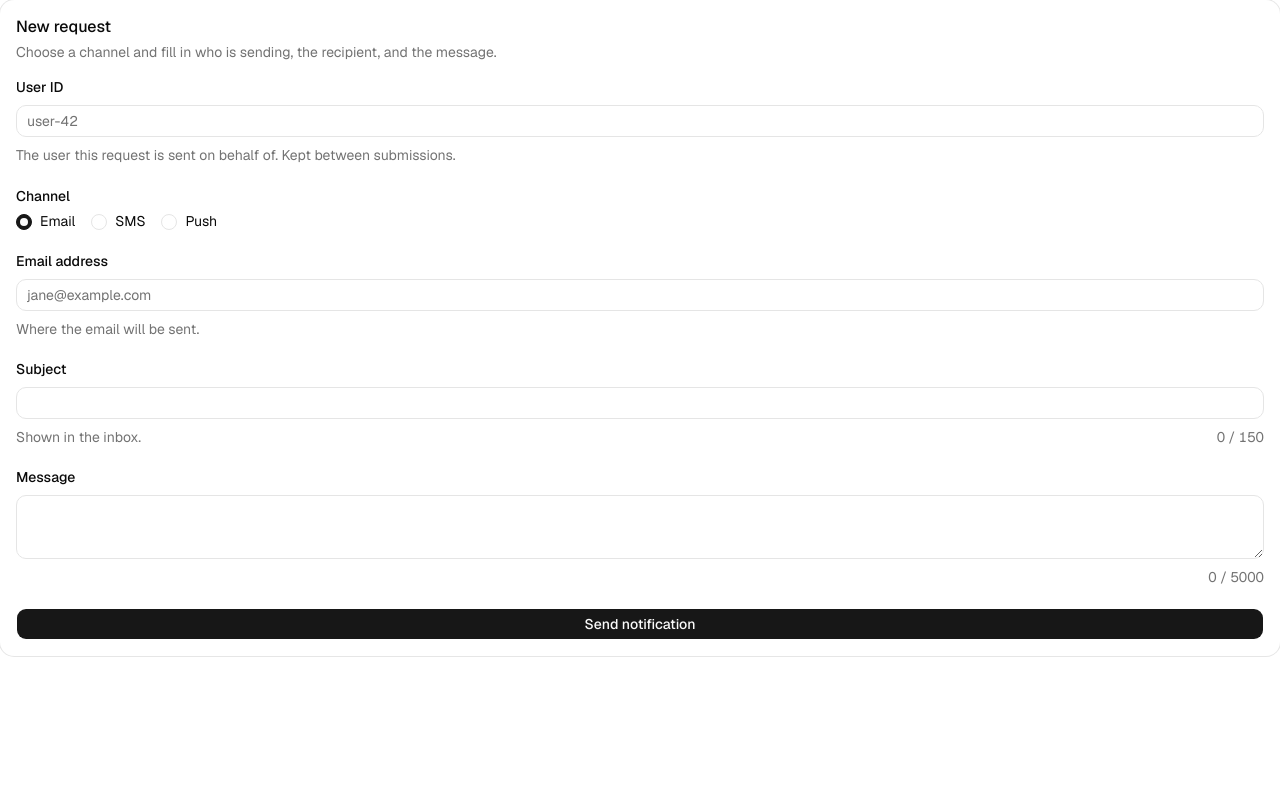
NotificationForm › validates with the shared schema before submitting
This screenshot has width=1280, height=800.
Type "jane@" into the field labelled "Email address" at (640, 295), box [16,279,1264,311]
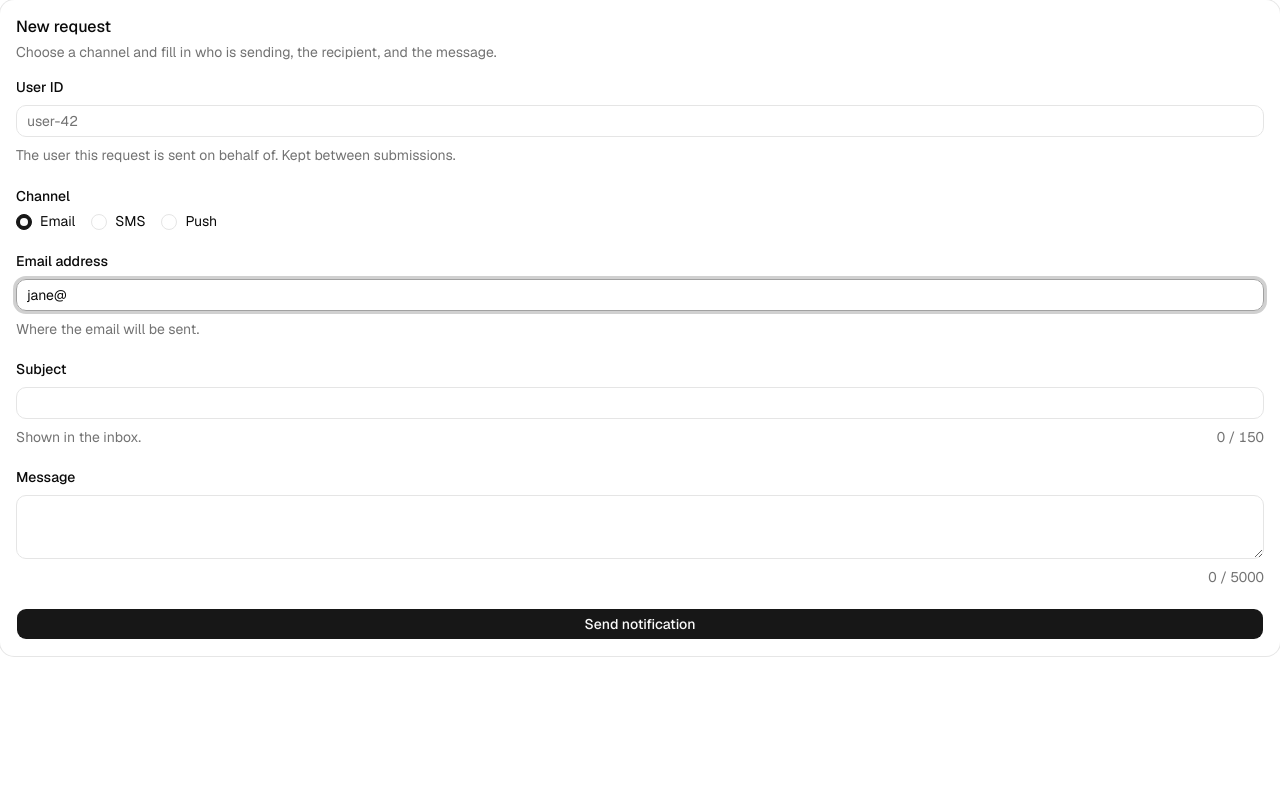
Clear the field labelled "Subject" at (640, 403), box [16,387,1264,419]
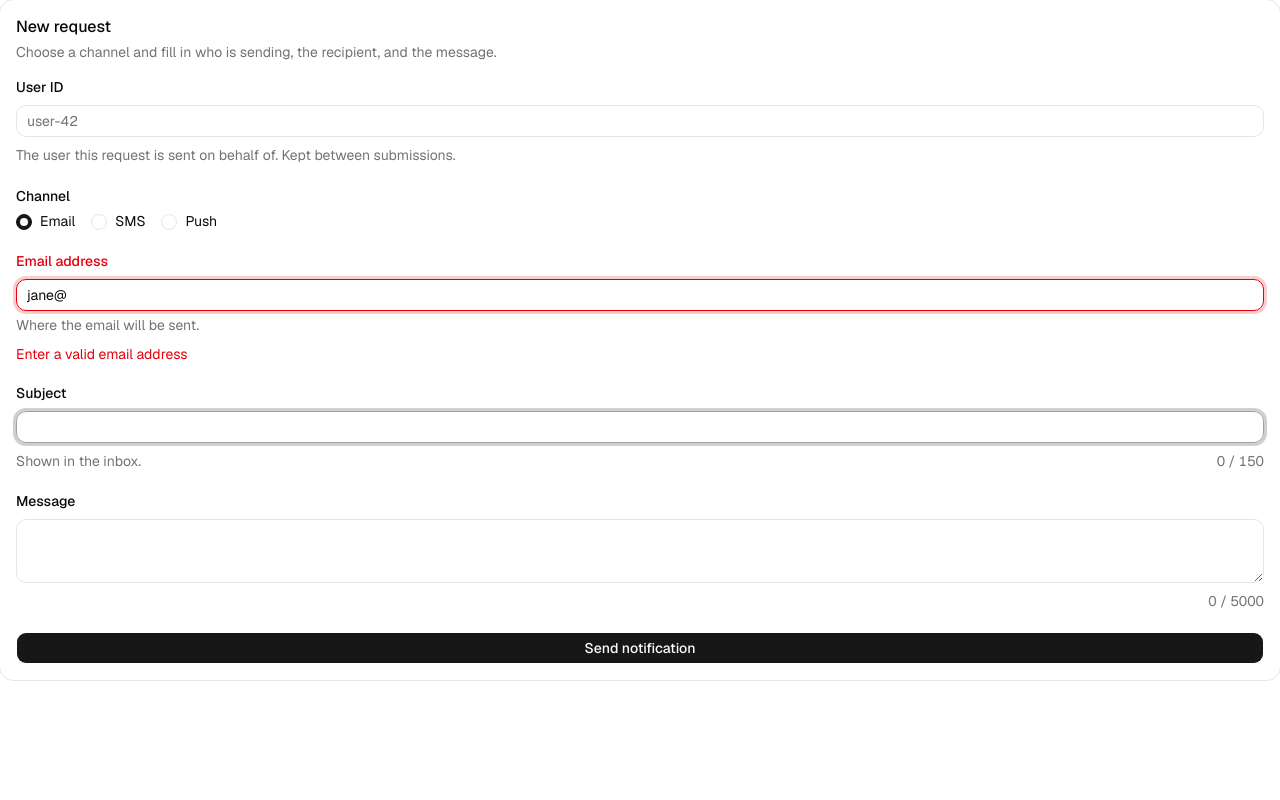
Type "Hi" into the field labelled "Subject" at (640, 427), box [16,411,1264,443]
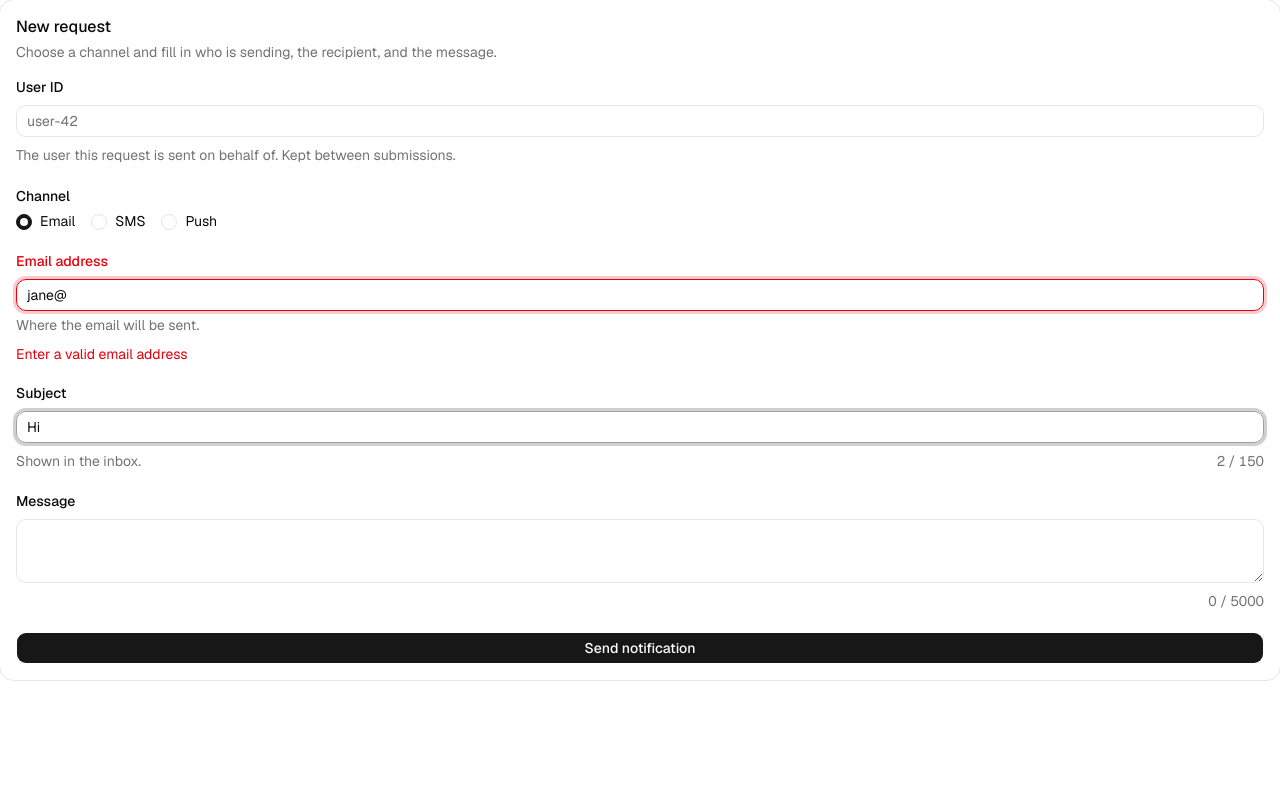
Type "Hello" into the text box labelled "Message" at (640, 551), box [16,519,1264,583]
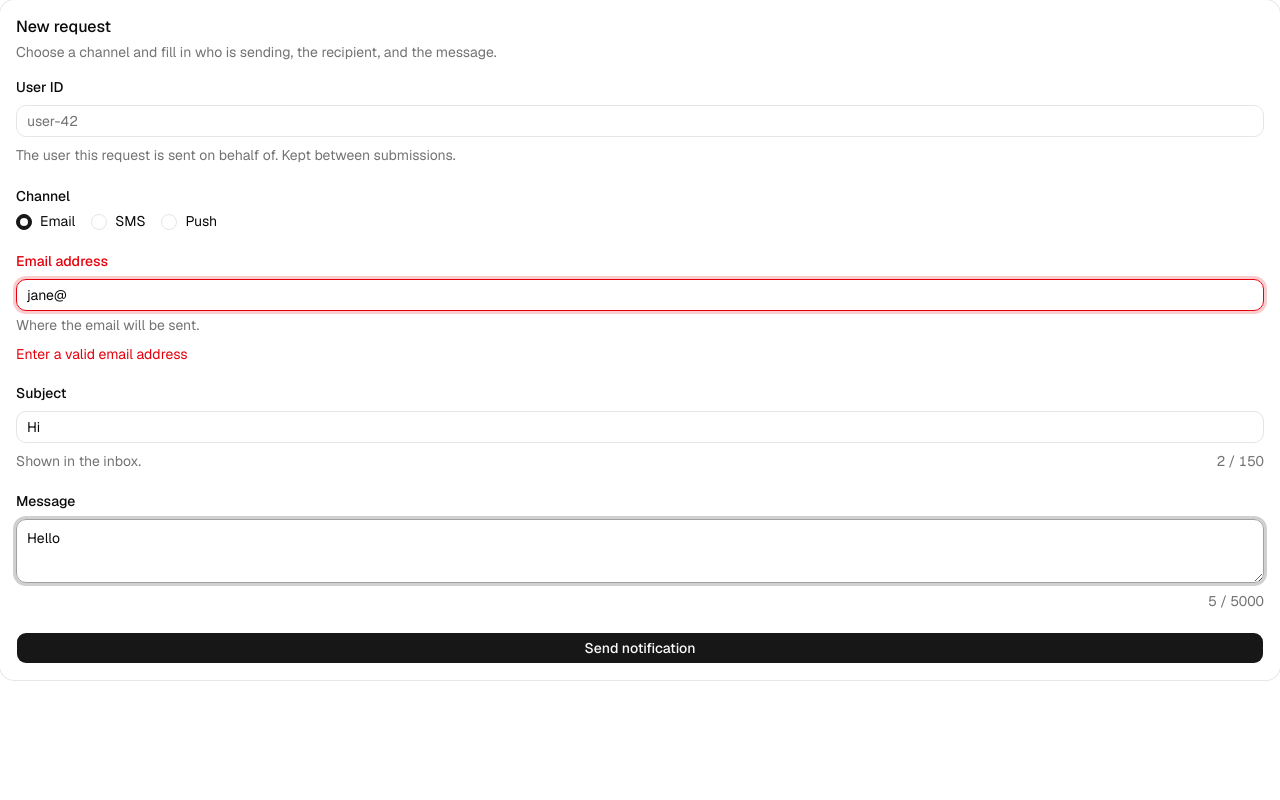
Click the button "Send notification" at (640, 648), box [16,632,1264,664]
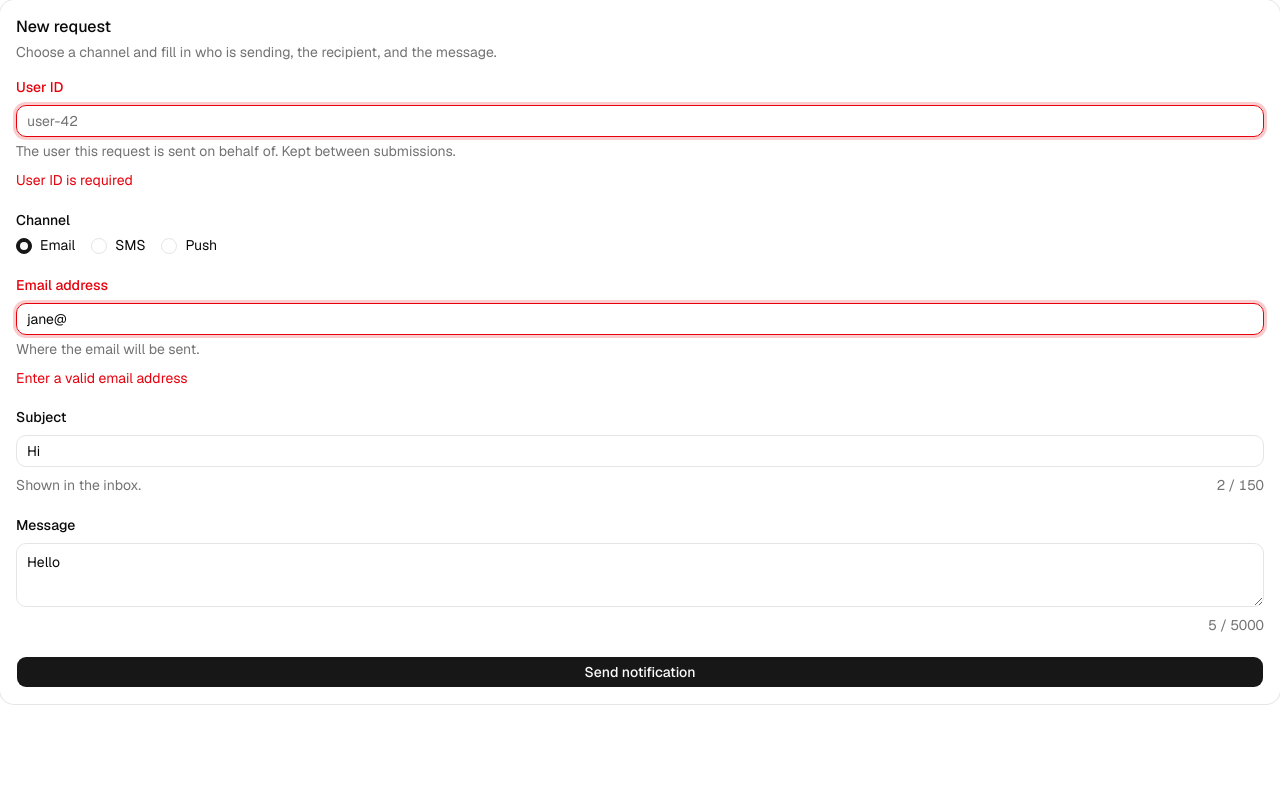
expect the messages read "User ID is required", "Enter a valid email address", in this order: met, box [16,171,133,189]; [16,369,188,387]
